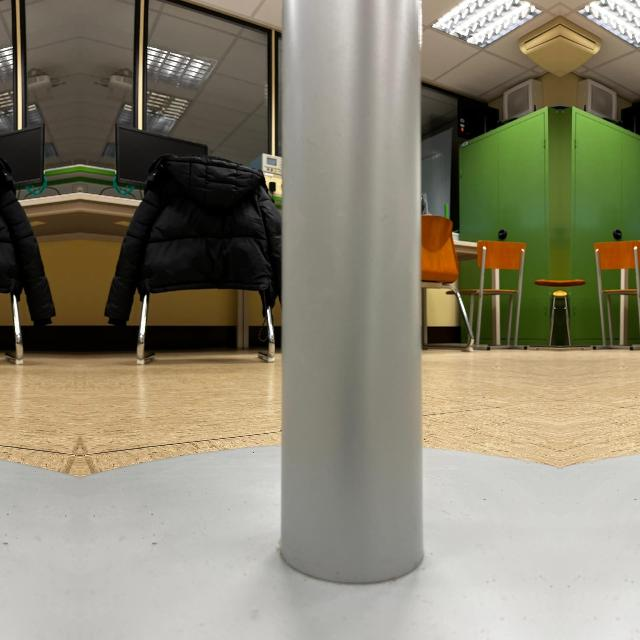obstacle: (80, 294, 560, 640), (0, 294, 80, 640), (560, 294, 640, 640)
